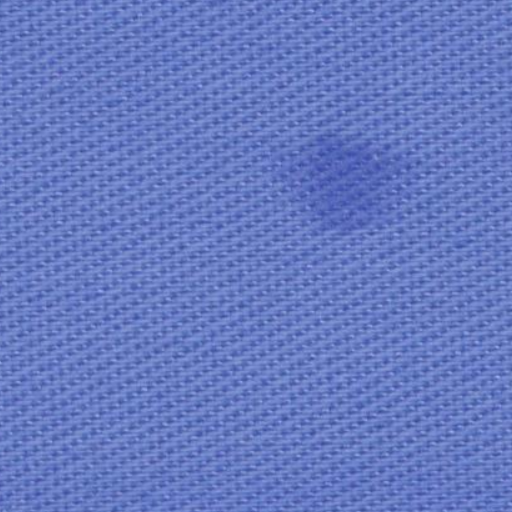WuZi: (265, 110, 424, 242)
